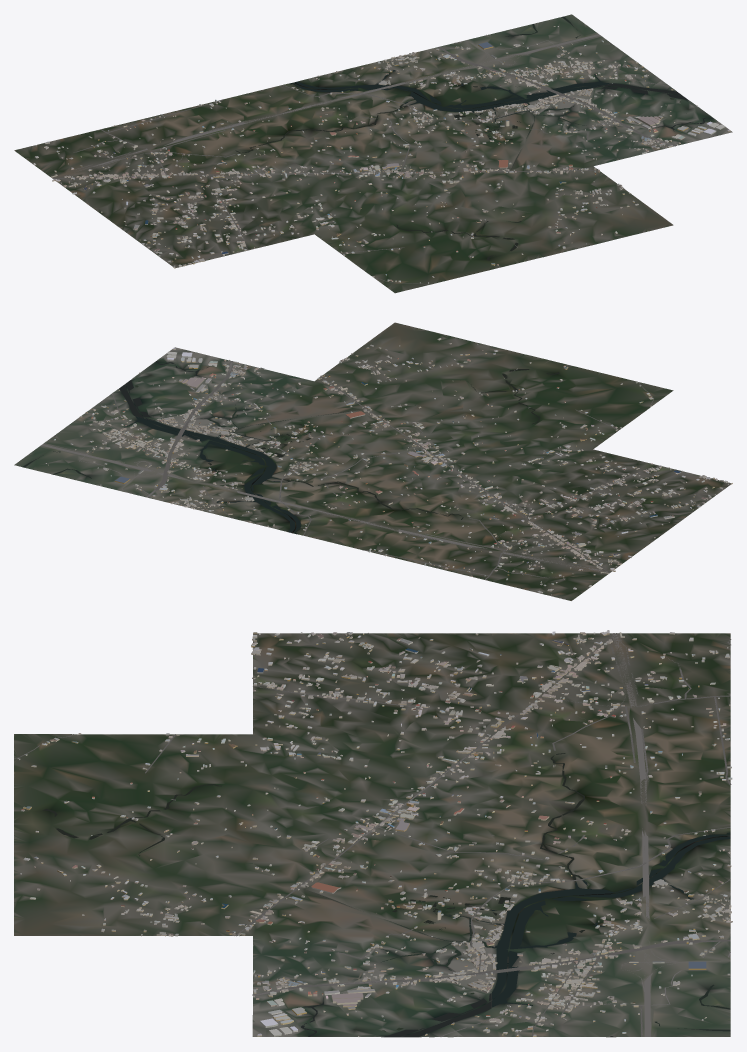
The picture shows the model from 3 angles, top to bottom: view 1: azimuth 30°, elevation 25°; view 2: azimuth 150°, elevation 25°; view 3: azimuth 270°, elevation 25°; orthographic projection. The views are drawn at different scales.
Visible parts, largest first — view 1: ground, buildings, water, roads; view 2: ground, buildings, water, roads; view 3: ground, buildings, water, roads.
Part boxes in pixels (x1,y1,x2,y2): ground: [14, 14, 732, 293]; buildings: [33, 26, 730, 283]; water: [235, 16, 713, 260]; roads: [29, 34, 676, 284]; ground: [14, 322, 730, 600]; buildings: [45, 338, 732, 595]; water: [22, 361, 559, 533]; roads: [41, 361, 693, 598]; ground: [14, 633, 730, 1037]; buildings: [16, 630, 732, 1036]; water: [42, 753, 730, 1037]; roads: [14, 633, 731, 1036].
Size of the model in its own units: 5633 by 55.36 by 4215.
